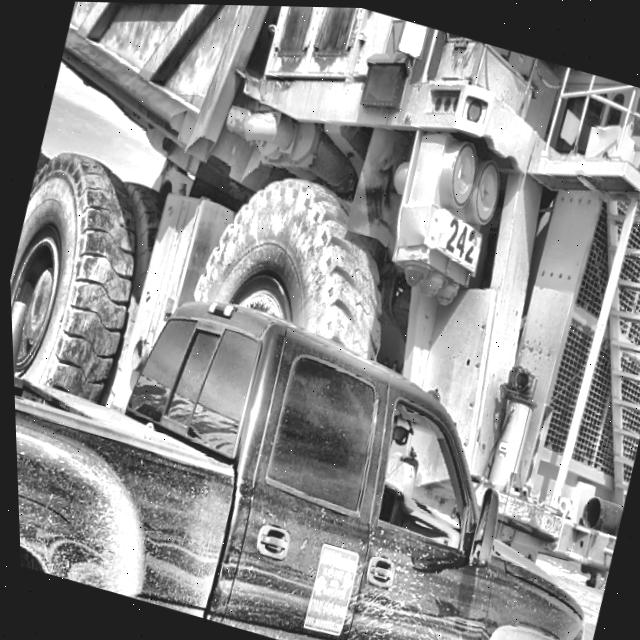dump_truck: (0, 0, 640, 596)
excavator: (8, 265, 640, 640)
